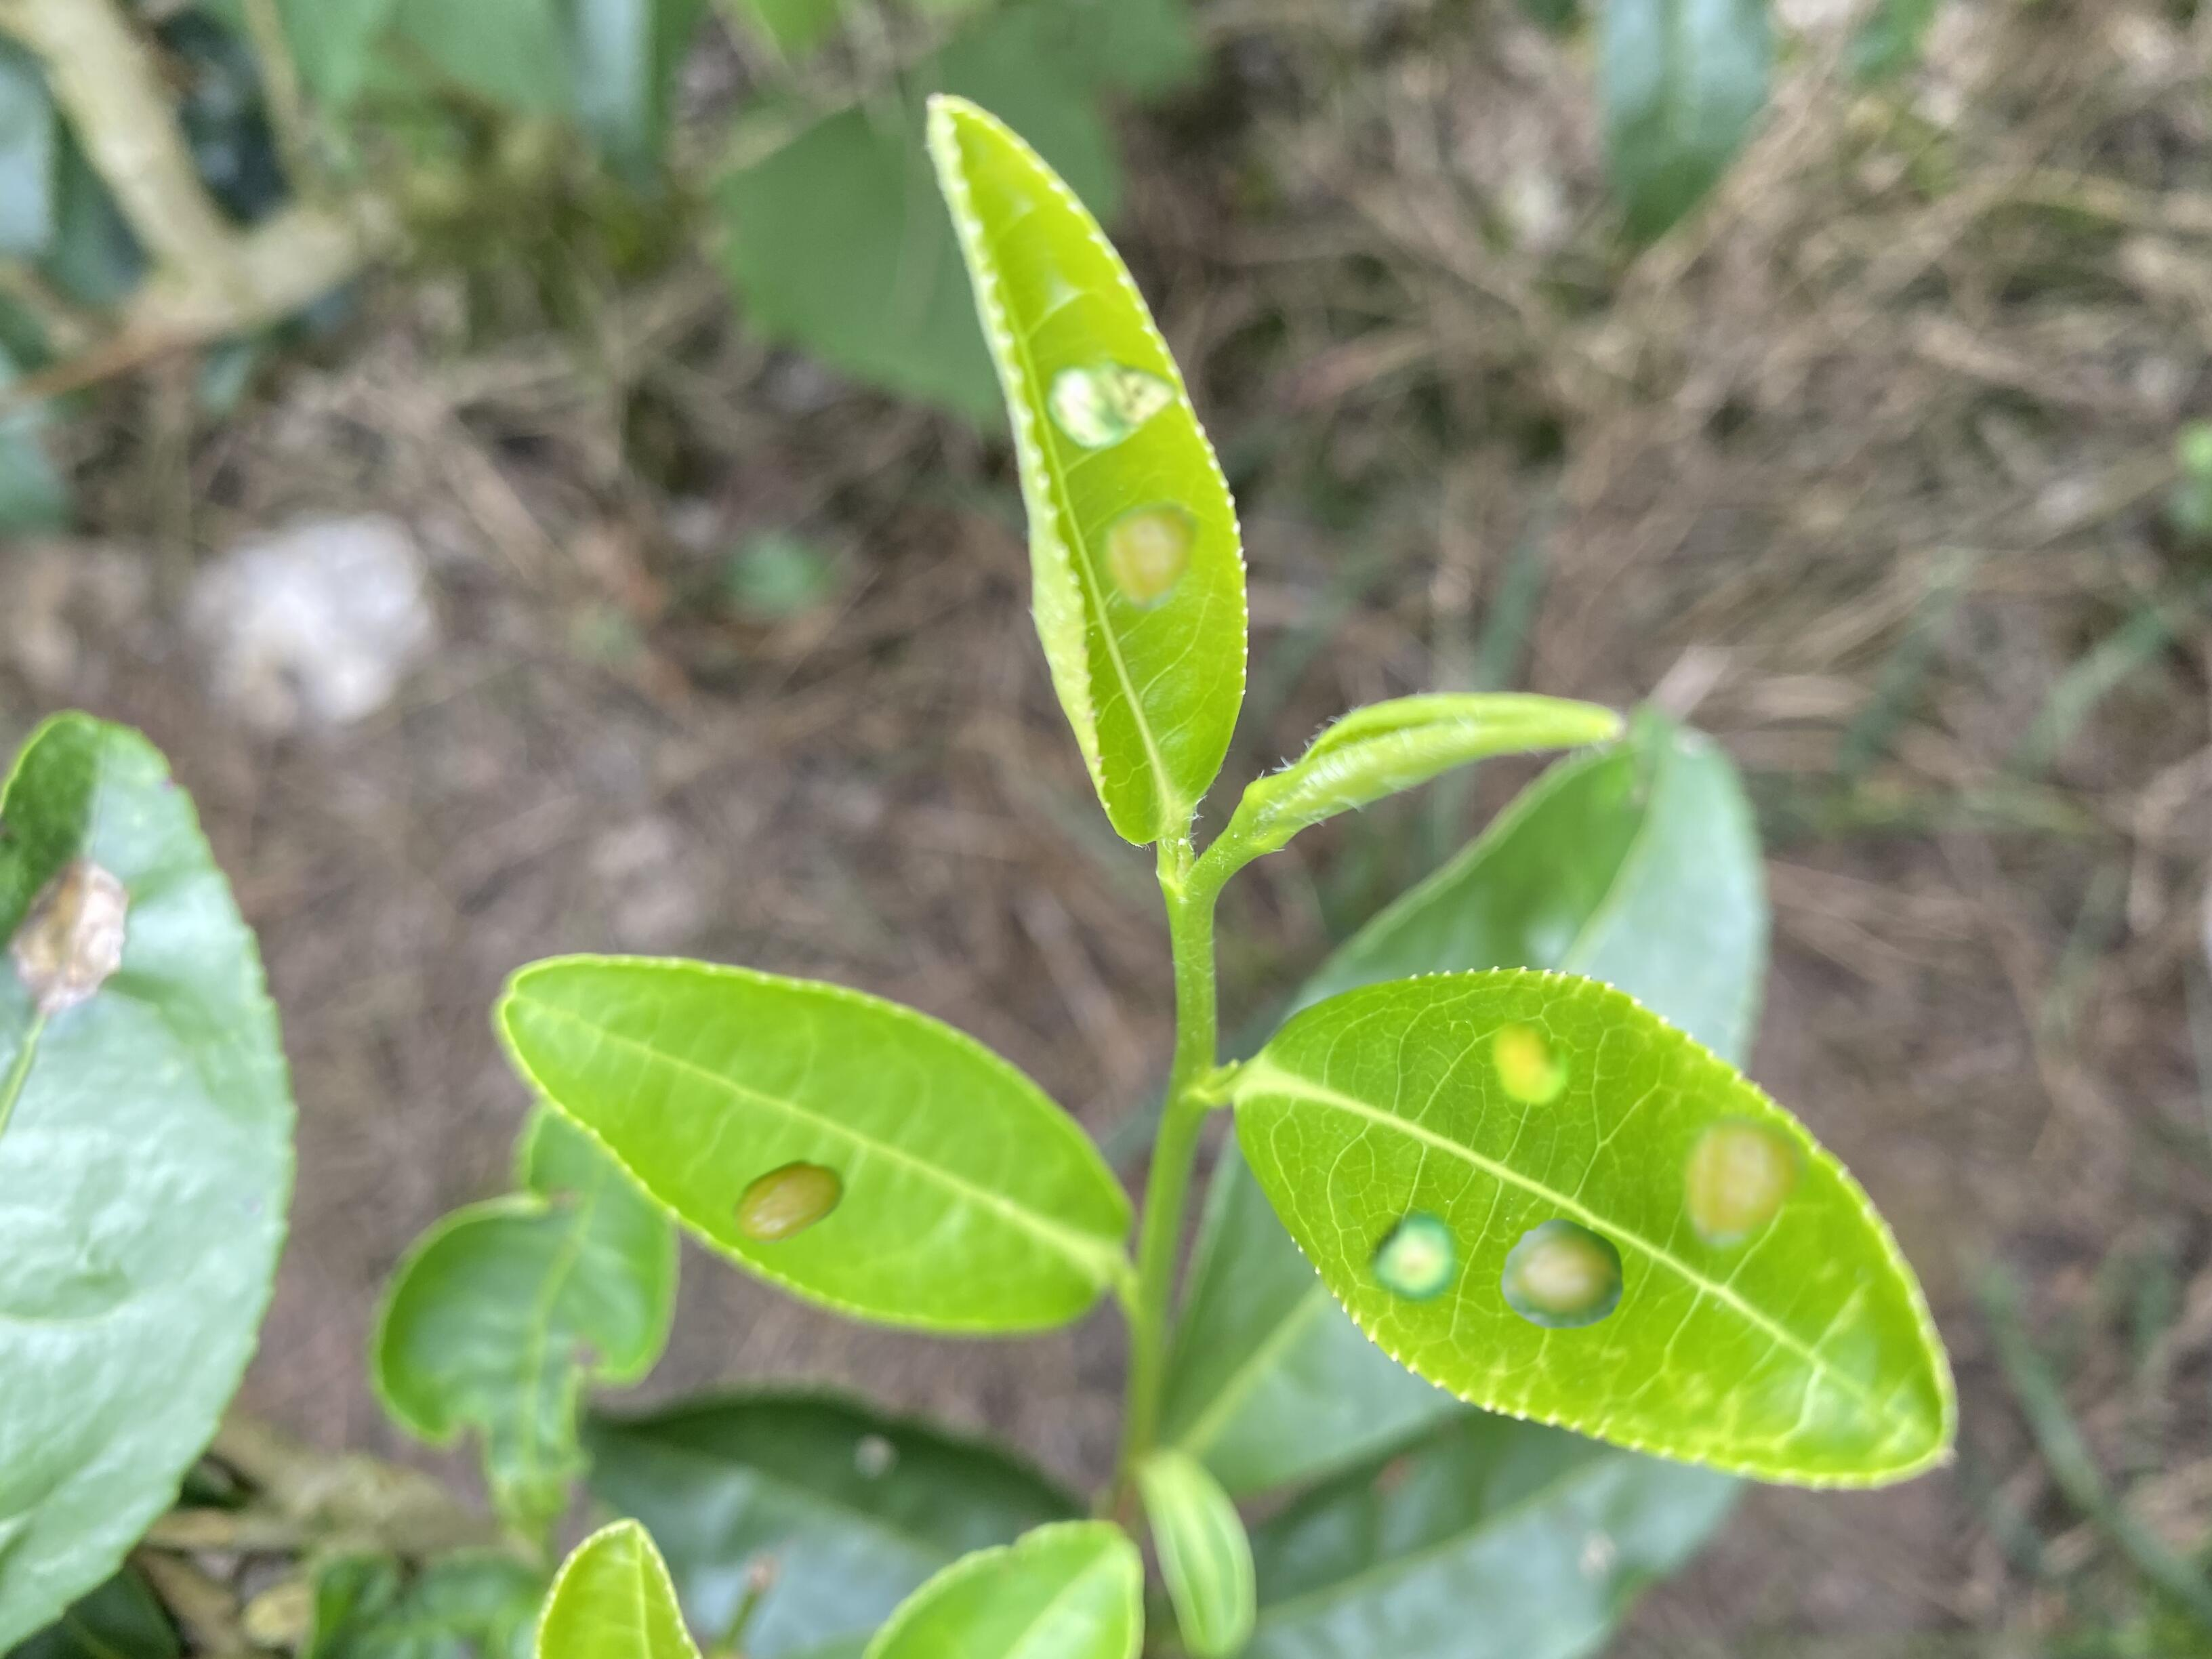chabing_high: (1231, 965, 1958, 1483), (928, 91, 1249, 849)
chabing_low: (498, 953, 1136, 1333)
tanju_high: (2, 711, 301, 1656)
